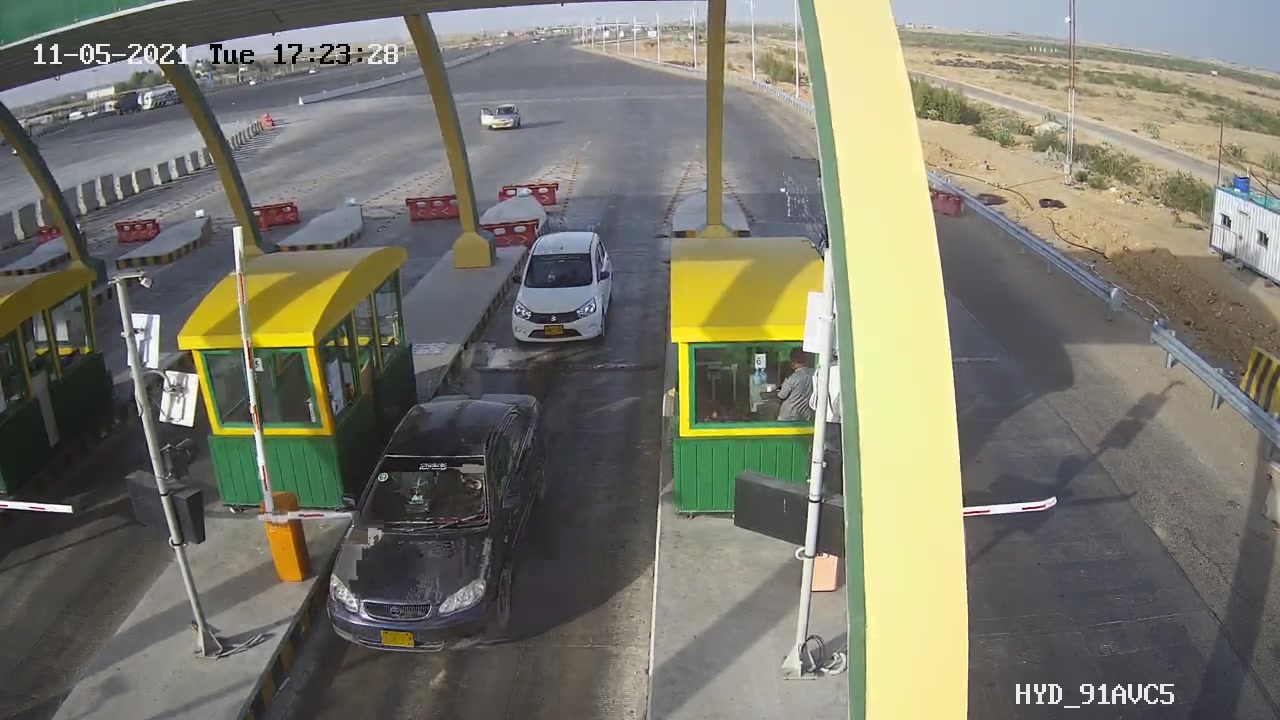F1: (491, 218, 638, 357)
